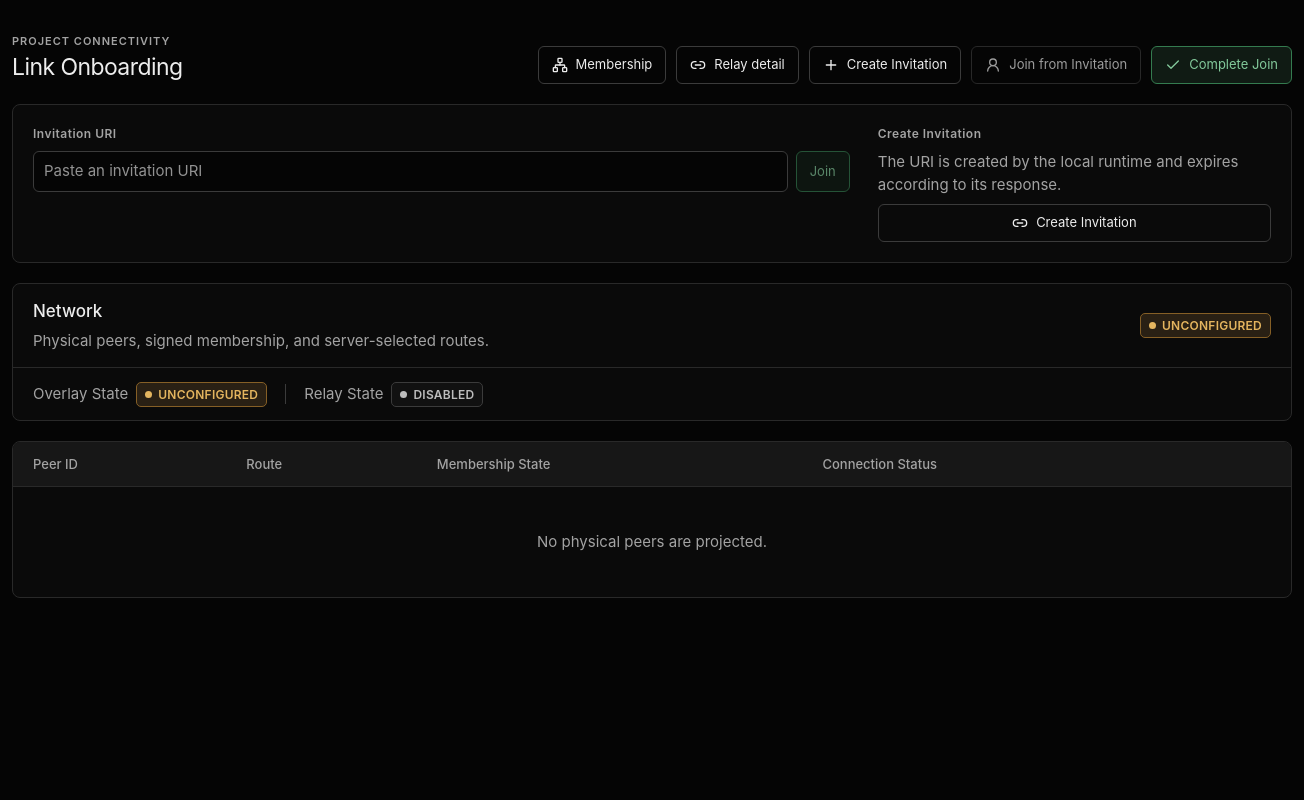
Scenario: truthful product states › connects a runtime-projected pending join through the existing client command
Click the button "Complete Join".
click(1222, 65)  # box [1151, 46, 1292, 84]
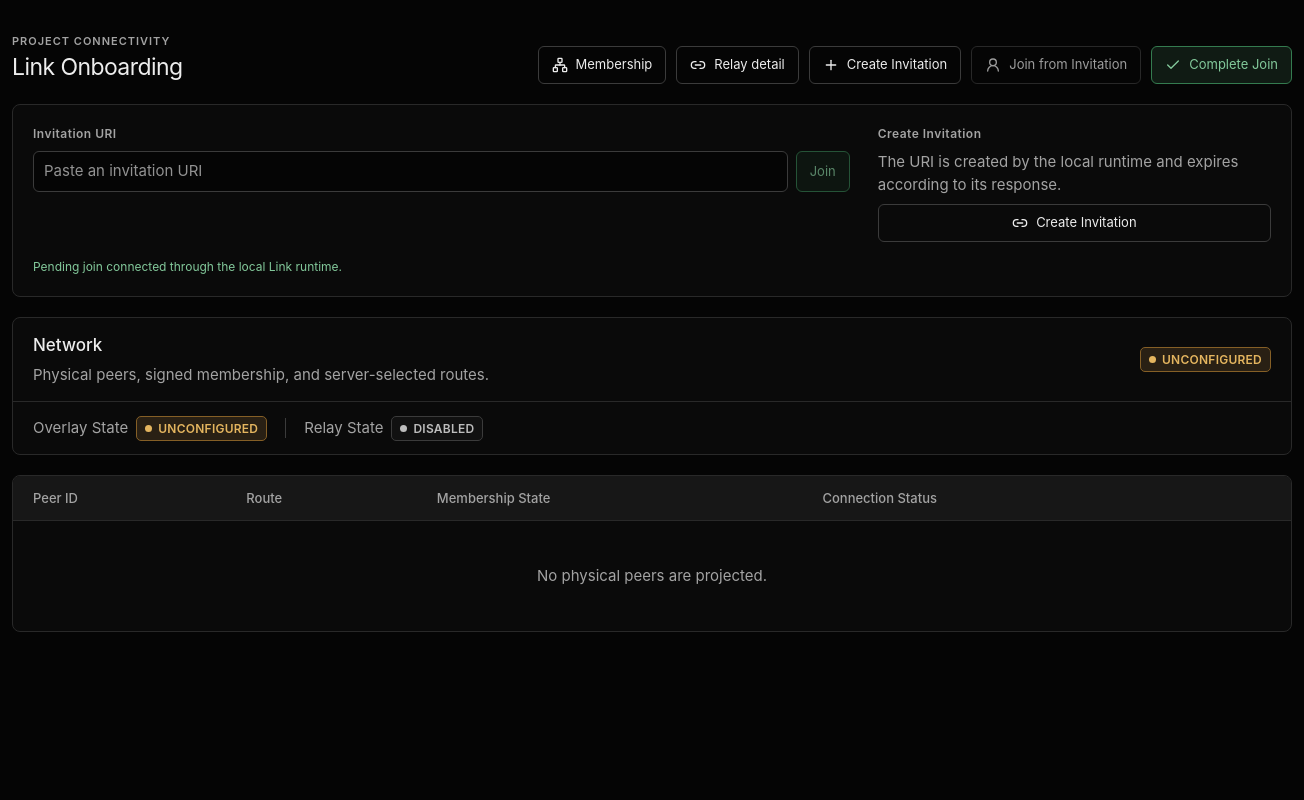
Expected: the text "Pending join connected through the local Link runtime." is shown, [33, 259, 342, 274]
